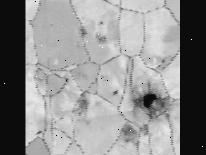good_void: (138, 82, 160, 112), (118, 122, 137, 141), (73, 96, 91, 116), (95, 31, 111, 47), (156, 55, 168, 69), (77, 25, 87, 39), (138, 123, 149, 135), (35, 128, 44, 136), (98, 72, 107, 80), (112, 88, 119, 97), (97, 18, 104, 25), (59, 116, 64, 121), (54, 120, 57, 123)
